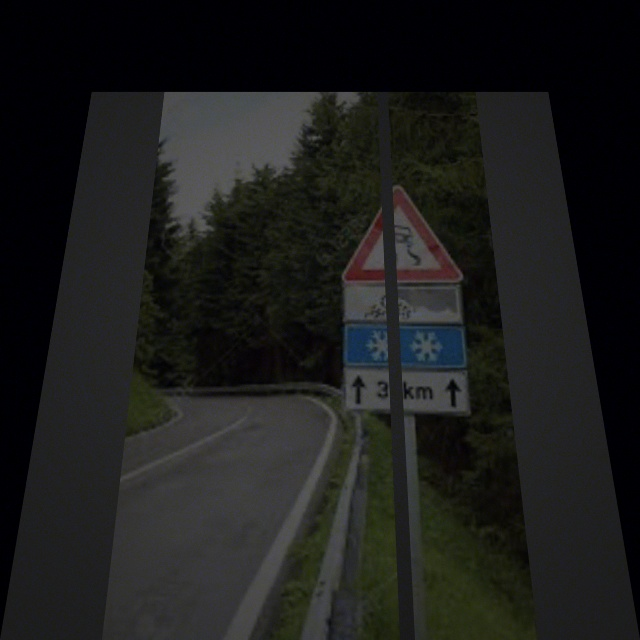Slippery_Road: (345, 184, 463, 281)
